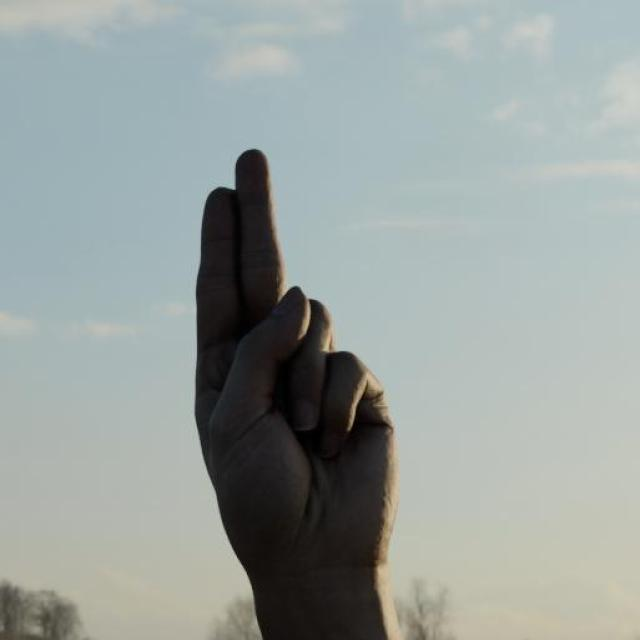U: (182, 139, 408, 595)
